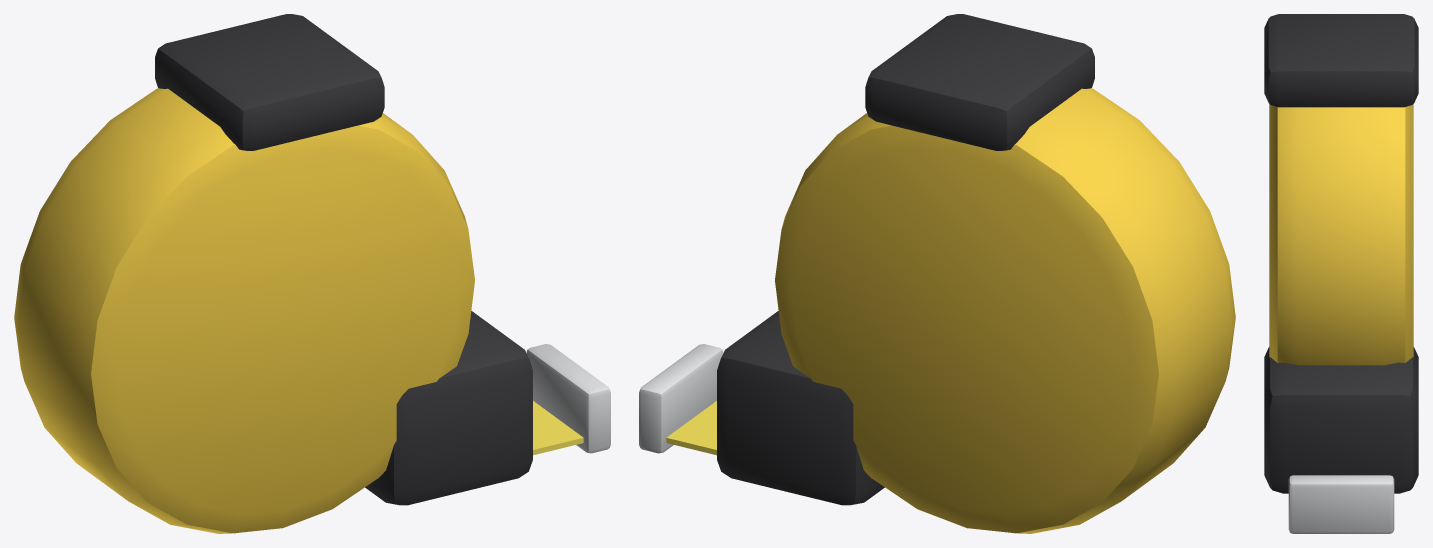
Rendered from EQP-MAO-010_anim.glb.
The picture shows the model from 3 angles, left to right: view 1: azimuth 30°, elevation 25°; view 2: azimuth 150°, elevation 25°; view 3: azimuth 270°, elevation 25°; orthographic projection. The views are drawn at different scales.
Visible parts, largest first — view 1: EQP-MAO-010_anim2, EQP-MAO-010_anim1, EQP-MAO-010_anim0; view 2: EQP-MAO-010_anim2, EQP-MAO-010_anim1, EQP-MAO-010_anim0; view 3: EQP-MAO-010_anim2, EQP-MAO-010_anim1.
Part boxes in pixels (x1=…): EQP-MAO-010_anim2: x1=14, y1=14, x2=532, y2=533; EQP-MAO-010_anim1: x1=526, y1=344, x2=610, y2=453; EQP-MAO-010_anim0: x1=533, y1=401, x2=583, y2=455; EQP-MAO-010_anim2: x1=717, y1=14, x2=1235, y2=533; EQP-MAO-010_anim1: x1=639, y1=344, x2=723, y2=453; EQP-MAO-010_anim0: x1=666, y1=401, x2=716, y2=455; EQP-MAO-010_anim2: x1=1264, y1=14, x2=1418, y2=493; EQP-MAO-010_anim1: x1=1288, y1=475, x2=1394, y2=533.
Size of the model in its own units: 0.107 by 0.085 by 0.032.
